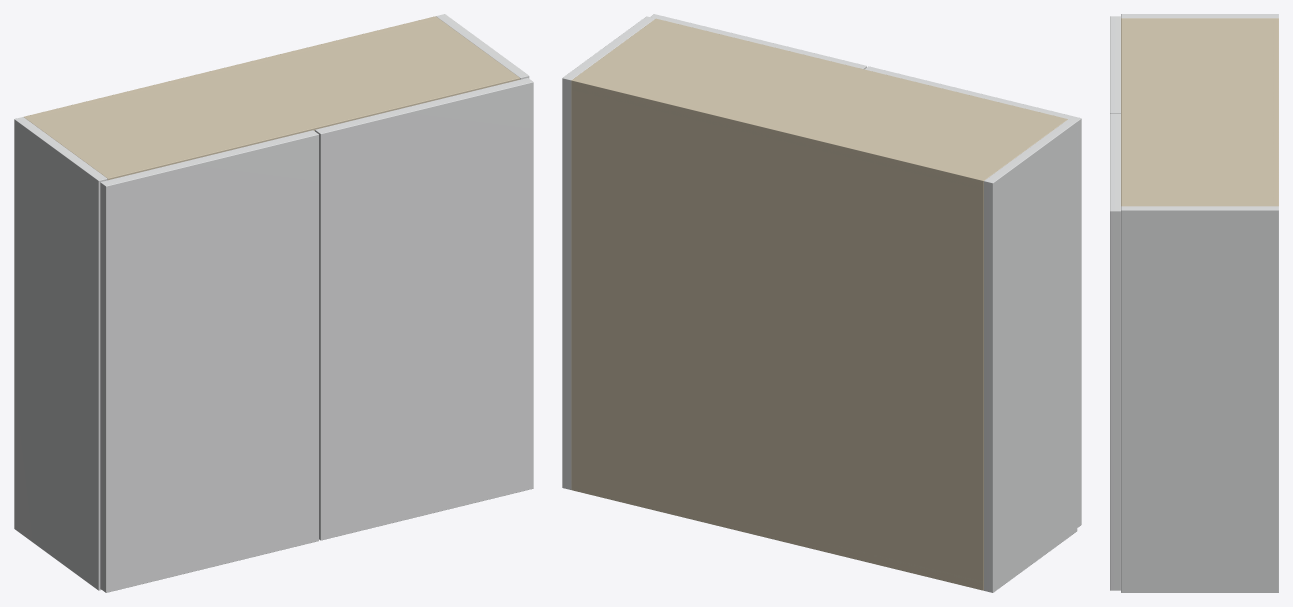
File: oppein-ply-pgw-w3330.glb
The picture shows the model from 3 angles, left to right: view 1: azimuth 30°, elevation 25°; view 2: azimuth 150°, elevation 25°; view 3: azimuth 270°, elevation 25°; orthographic projection. The views are drawn at different scales.
Parts seen in each view (by area): view 1: Door, Door.001, Cabinet side, Cabinet top, Cabinet back, Cabinet side.001; view 2: Cabinet back, Cabinet side, Cabinet top, Cabinet side.001, Door, Door.001; view 3: Cabinet side.001, Cabinet top, Door.001, Cabinet back, Door, Cabinet side.
Boxes of the visible parts, left/top/right/bottom form: Door: left=100, top=130, right=318, bottom=592; Door.001: left=315, top=78, right=533, bottom=540; Cabinet side: left=14, top=117, right=107, bottom=590; Cabinet top: left=24, top=17, right=519, bottom=180; Cabinet back: left=24, top=16, right=438, bottom=118; Cabinet side.001: left=436, top=14, right=529, bottom=79; Cabinet back: left=571, top=78, right=986, bottom=590; Cabinet side: left=984, top=119, right=1077, bottom=592; Cabinet top: left=571, top=18, right=1067, bottom=189; Cabinet side.001: left=562, top=16, right=655, bottom=489; Door: left=865, top=66, right=1081, bottom=527; Door.001: left=650, top=14, right=866, bottom=69; Cabinet side.001: left=1121, top=206, right=1278, bottom=592; Cabinet top: left=1121, top=18, right=1278, bottom=206; Door.001: left=1110, top=114, right=1120, bottom=590; Cabinet back: left=1272, top=18, right=1278, bottom=206; Door: left=1110, top=16, right=1120, bottom=113; Cabinet side: left=1121, top=14, right=1278, bottom=18.
Bounding box in the file's own units: 0.8382 × 0.762 × 0.3048.
